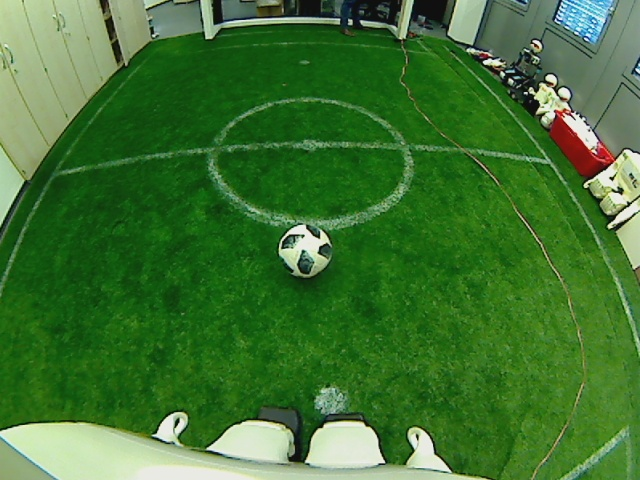ball: (276, 221, 334, 278)
